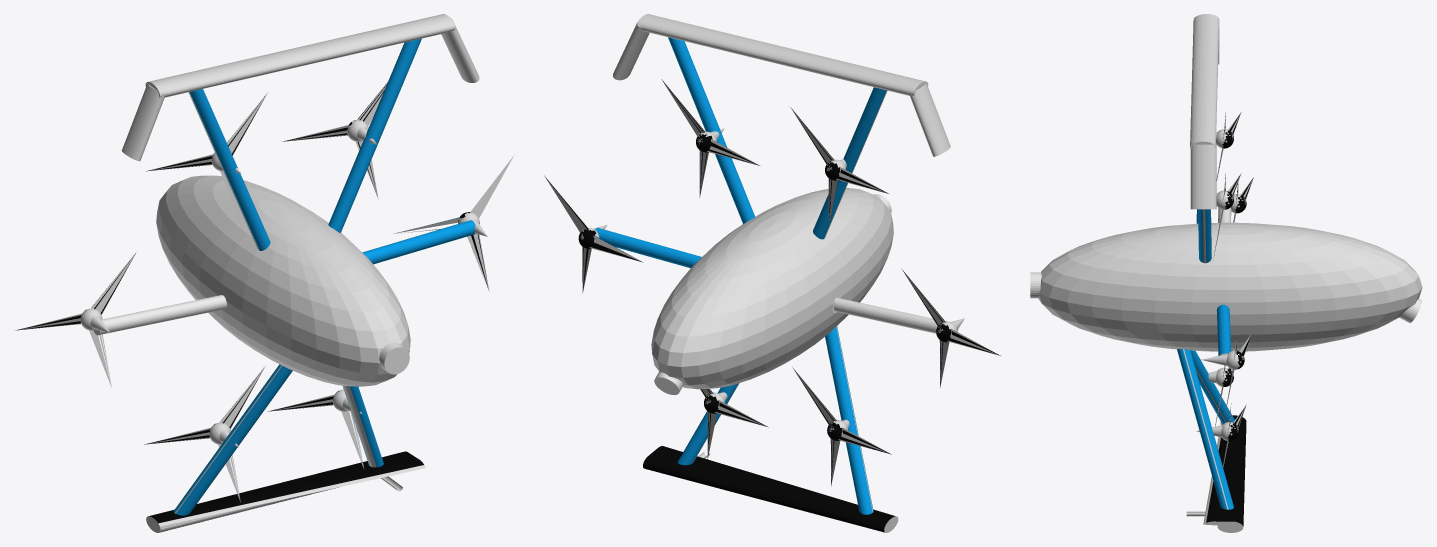
The model's file is Drone3_unattached.fbx.
The picture shows the model from 3 angles, left to right: view 1: azimuth 30°, elevation 25°; view 2: azimuth 150°, elevation 25°; view 3: azimuth 270°, elevation 25°; orthographic projection. The views are drawn at different scales.
Parts seen in each view (by area): view 1: Cylinder.016, Cylinder.001, Cylinder.008, Cylinder.011, Cylinder.005, Cylinder.004, Cylinder.002, Cylinder.018, Cylinder.017, Cylinder.003, Cylinder.019; view 2: Cylinder.016, Cylinder.001, Cylinder.008, Cylinder.011, Cylinder.018, Cylinder.005, Cylinder.002, Cylinder.017, Cylinder.004, Cylinder.003; view 3: Cylinder.016, Cylinder.001, Cylinder.008, Cylinder.011, Cylinder.002, Cylinder.003, Cylinder.018, Cylinder.017.
Part boxes in pixels (<box>): Cylinder.016: <box>156,175,410,386</box>; Cylinder.001: <box>98,38,475,516</box>; Cylinder.008: <box>121,14,479,161</box>; Cylinder.011: <box>146,458,425,532</box>; Cylinder.005: <box>15,252,136,387</box>; Cylinder.004: <box>144,365,265,502</box>; Cylinder.002: <box>393,155,514,291</box>; Cylinder.018: <box>281,82,387,199</box>; Cylinder.017: <box>146,92,267,228</box>; Cylinder.003: <box>267,386,364,469</box>; Cylinder.019: <box>379,342,409,374</box>; Cylinder.016: <box>651,188,893,389</box>; Cylinder.001: <box>595,37,937,532</box>; Cylinder.008: <box>613,14,950,156</box>; Cylinder.011: <box>656,446,898,532</box>; Cylinder.018: <box>661,79,759,197</box>; Cylinder.005: <box>901,268,1000,387</box>; Cylinder.002: <box>544,175,643,293</box>; Cylinder.017: <box>790,107,888,224</box>; Cylinder.004: <box>792,367,891,486</box>; Cylinder.003: <box>700,389,768,459</box>; Cylinder.016: <box>1038,222,1422,351</box>; Cylinder.001: <box>1177,207,1246,532</box>; Cylinder.008: <box>1190,14,1219,209</box>; Cylinder.011: <box>1186,415,1236,524</box>; Cylinder.002: <box>1201,333,1251,420</box>; Cylinder.003: <box>1196,403,1246,467</box>; Cylinder.018: <box>1212,173,1241,262</box>; Cylinder.017: <box>1216,112,1241,181</box>.
Bounding box in the file's own units: 770 × 693 × 607.
